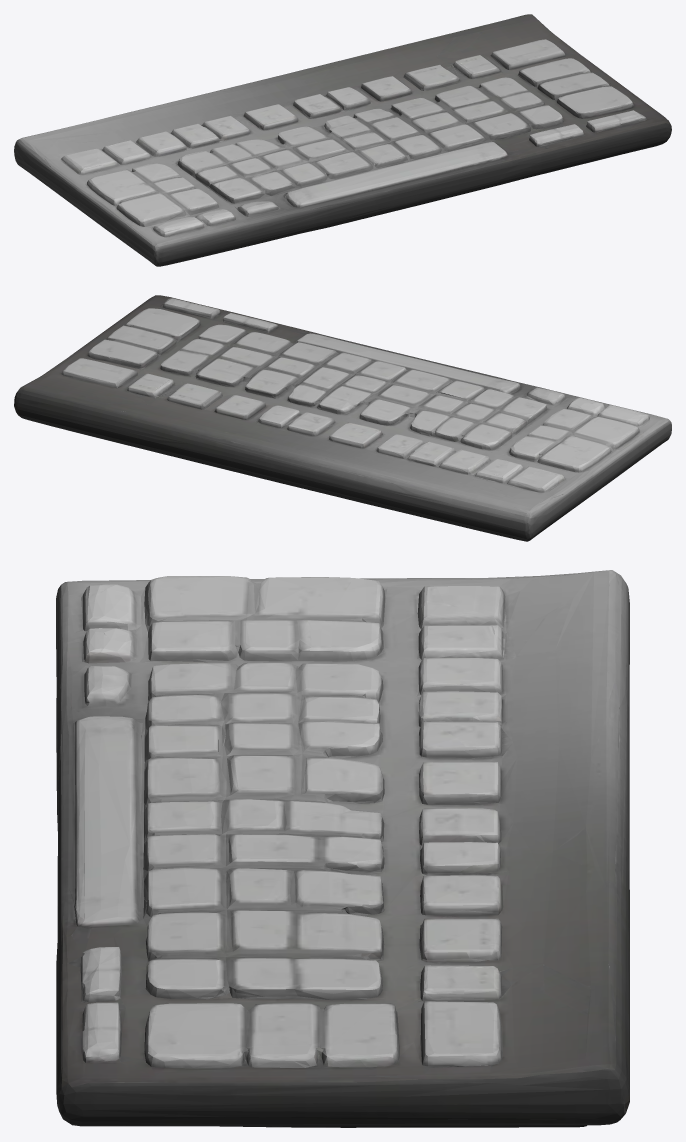
3 views of the same model, one above another, from view 1: azimuth 30°, elevation 25°; view 2: azimuth 150°, elevation 25°; view 3: azimuth 270°, elevation 25° (orthographic). The views are drawn at different scales.
Visible parts, largest first — view 1: geometry_0; view 2: geometry_0; view 3: geometry_0.
Boxes of the visible parts, x1,y1,x2,y2 form: geometry_0: (14,14,671,266); geometry_0: (14,295,671,541); geometry_0: (56,570,629,1127).
Bounding box in the file's own units: 1 × 0.0704 × 0.4797.
1 material, 1 textured.
